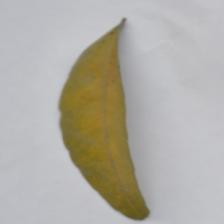greening: (48, 71, 160, 212)
